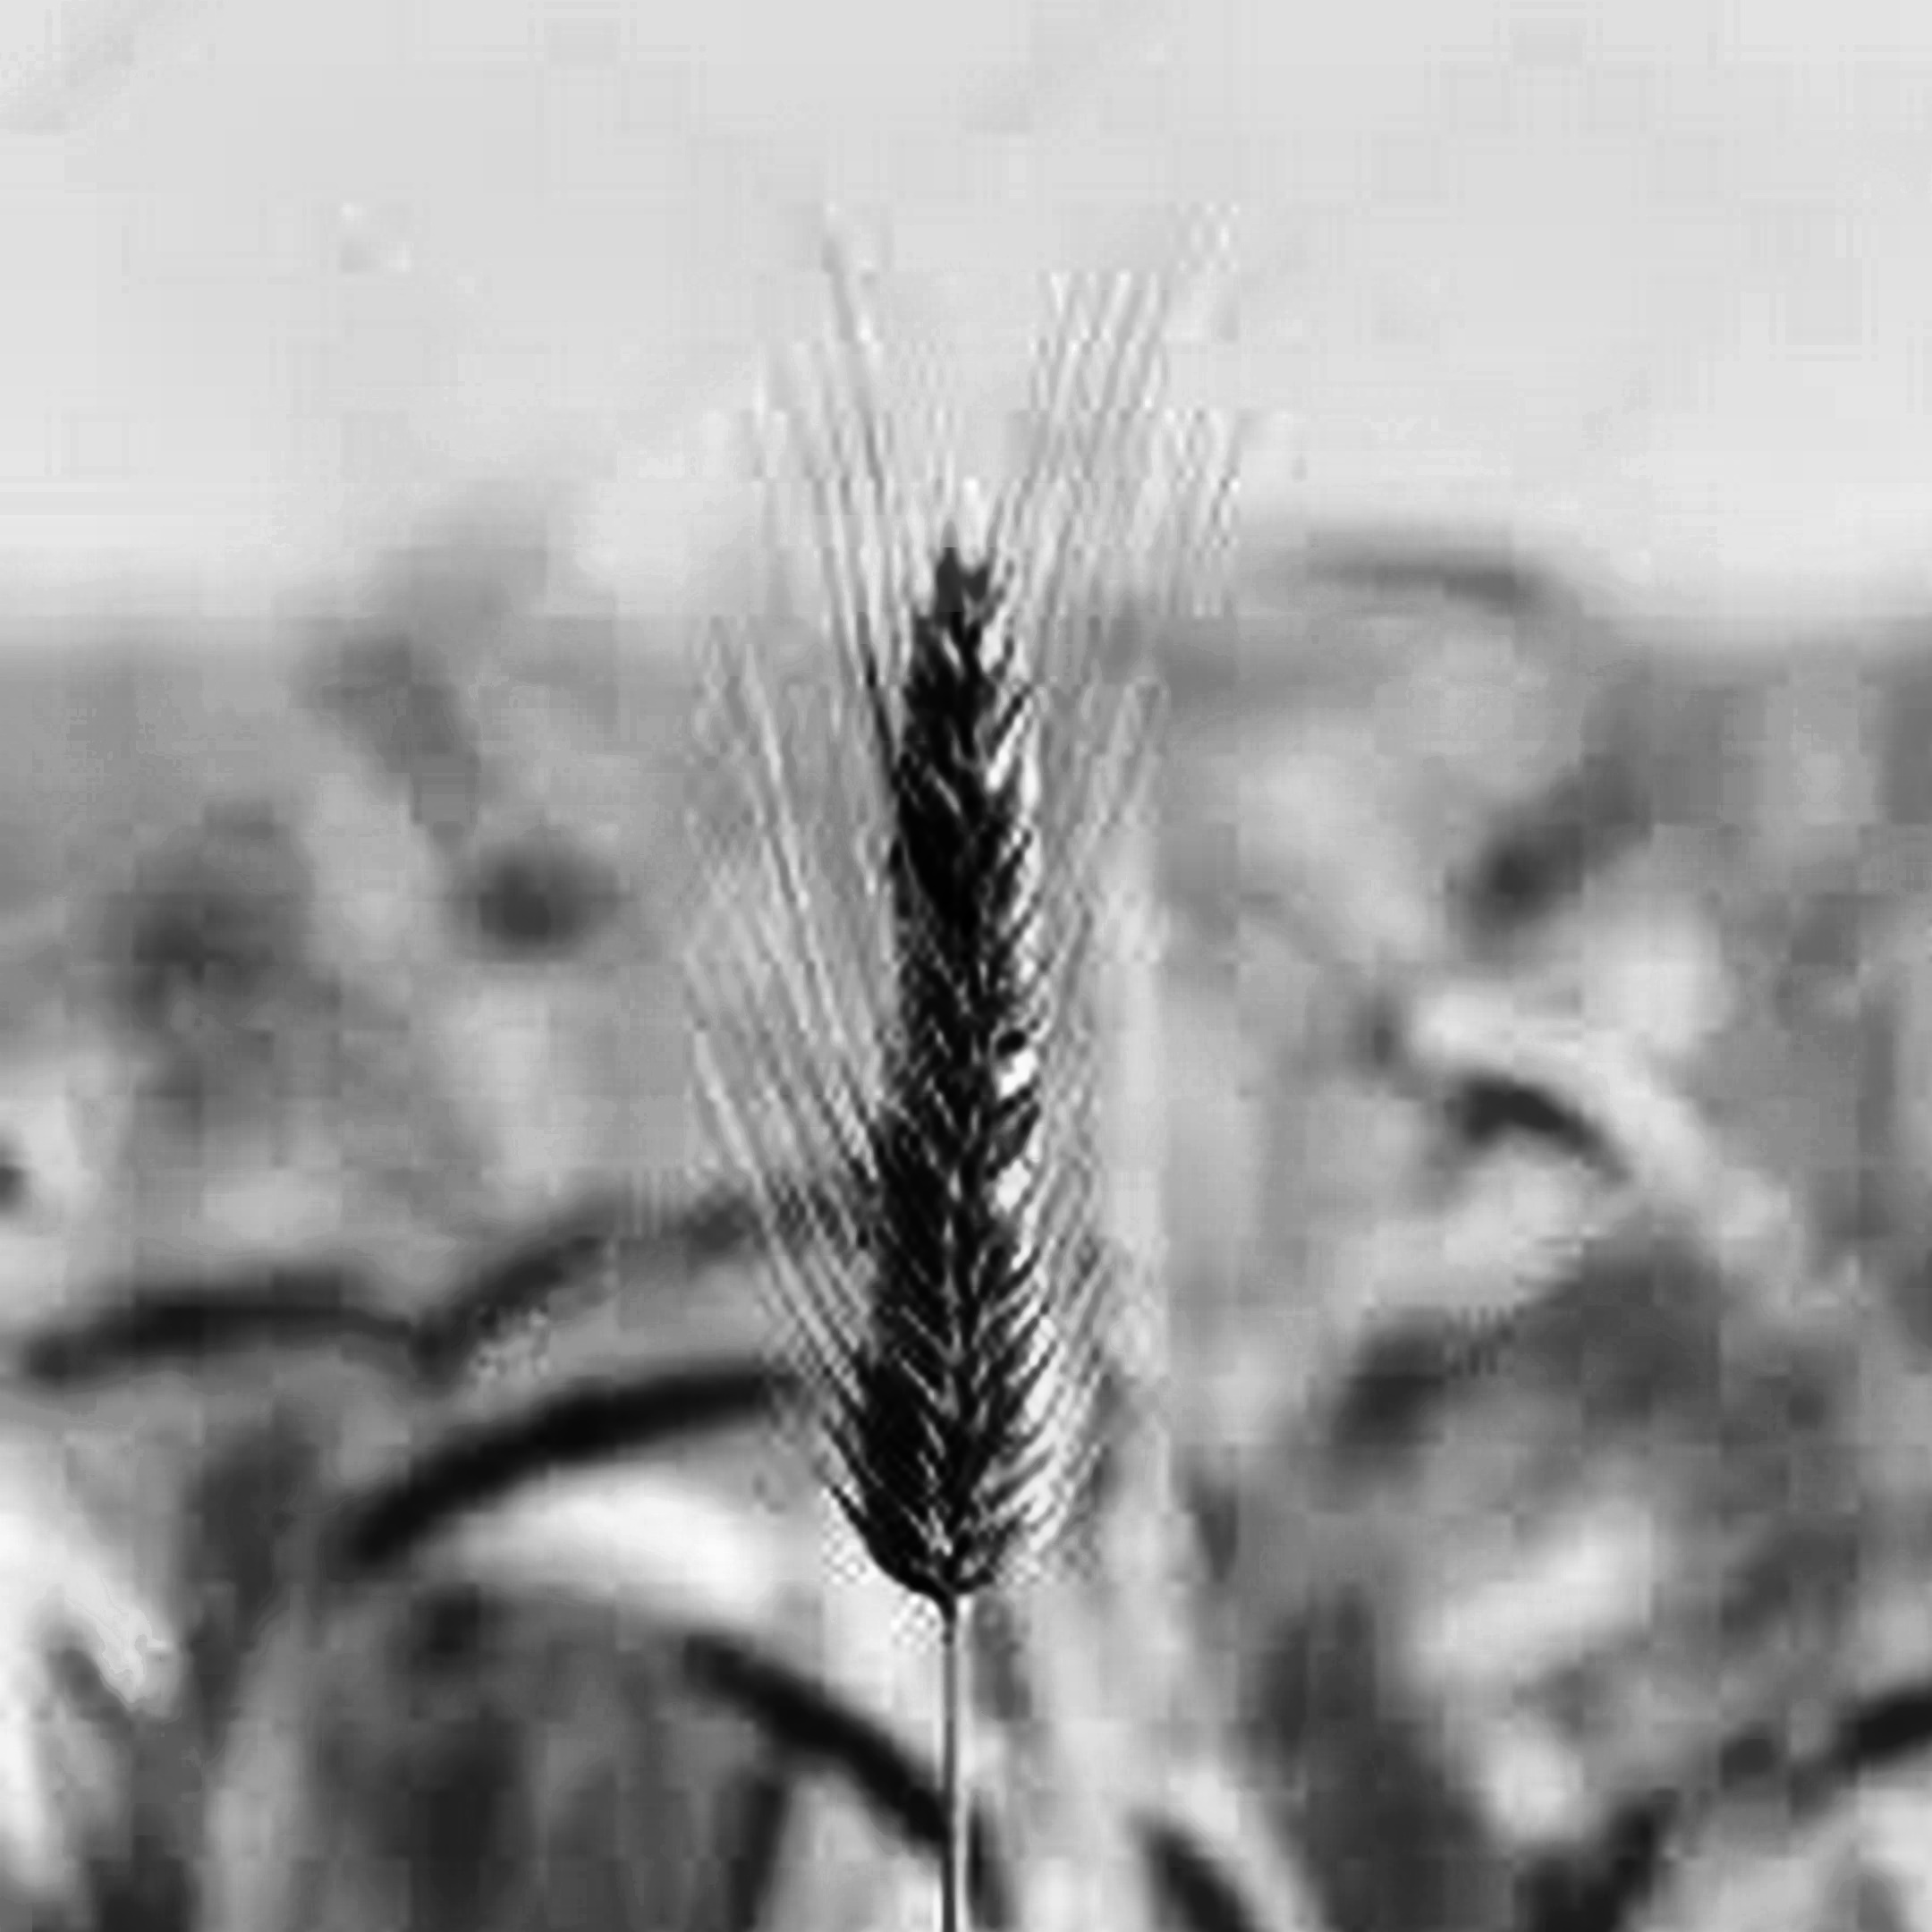Healthy Wheat: (780, 522, 1164, 1617)
